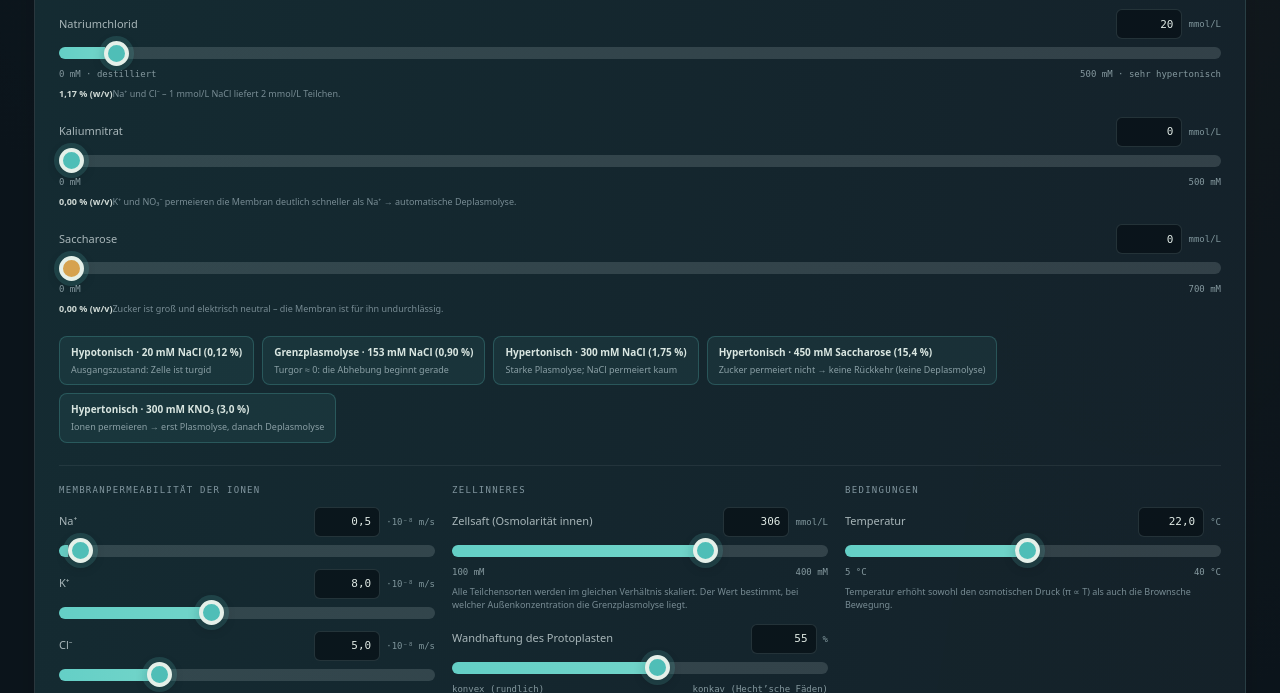
Test: Benutzeroberfläche (Smoke-Test im jsdom) › Medium-Voreinstellung ändert Regler und Zahlenfeld synchron
(page scrolled)
Check: the field with id "medium-nacl-number" holds "20", box x1=1116 y1=9 x2=1182 y2=39
What coordinates should you click on to do the following:
click the button with aria-label "Starke Plasmolyse; NaCl permeiert kaum"
I would click on:
 (596, 360)
Its box is x1=494 y1=336 x2=699 y2=385.
(page scrolled)
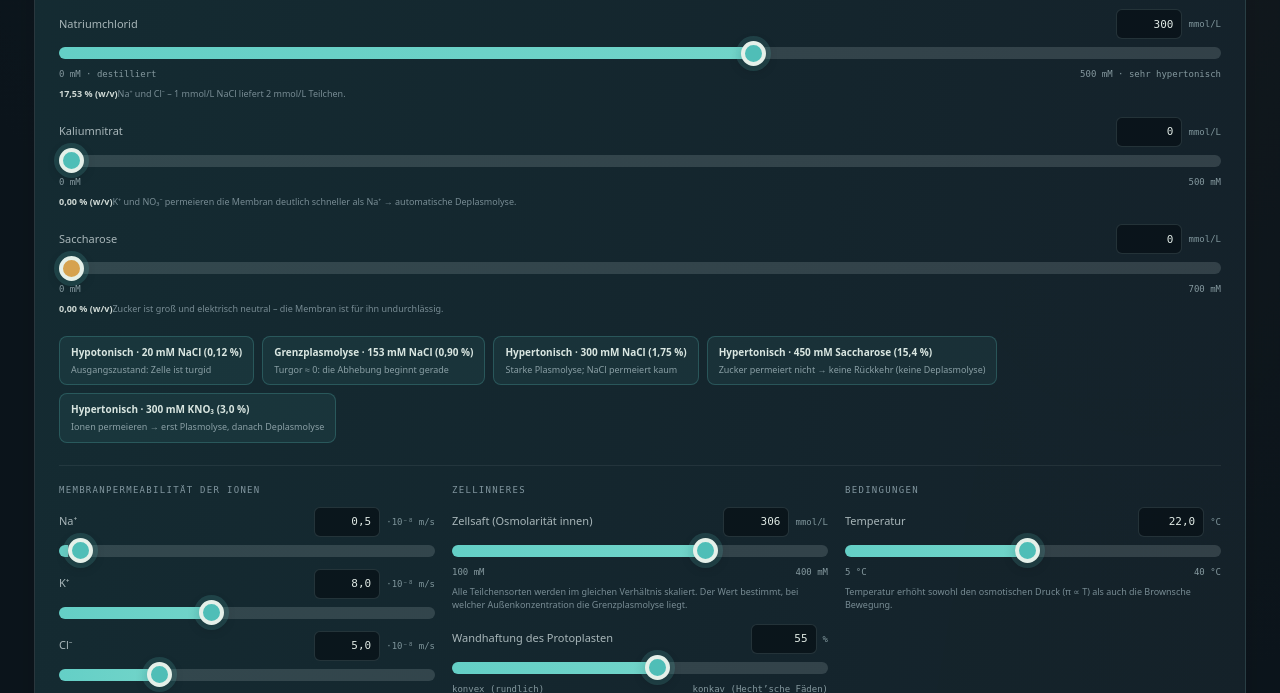
Check: the field with id "medium-nacl-number" holds "300", box x1=1116 y1=9 x2=1182 y2=39
Check: the slider with id "medium-nacl-range" holds "300", box x1=59 y1=47 x2=1221 y2=59
